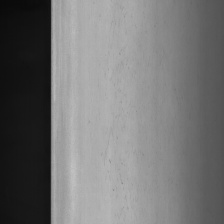silk_spot: (97, 8, 147, 192)
